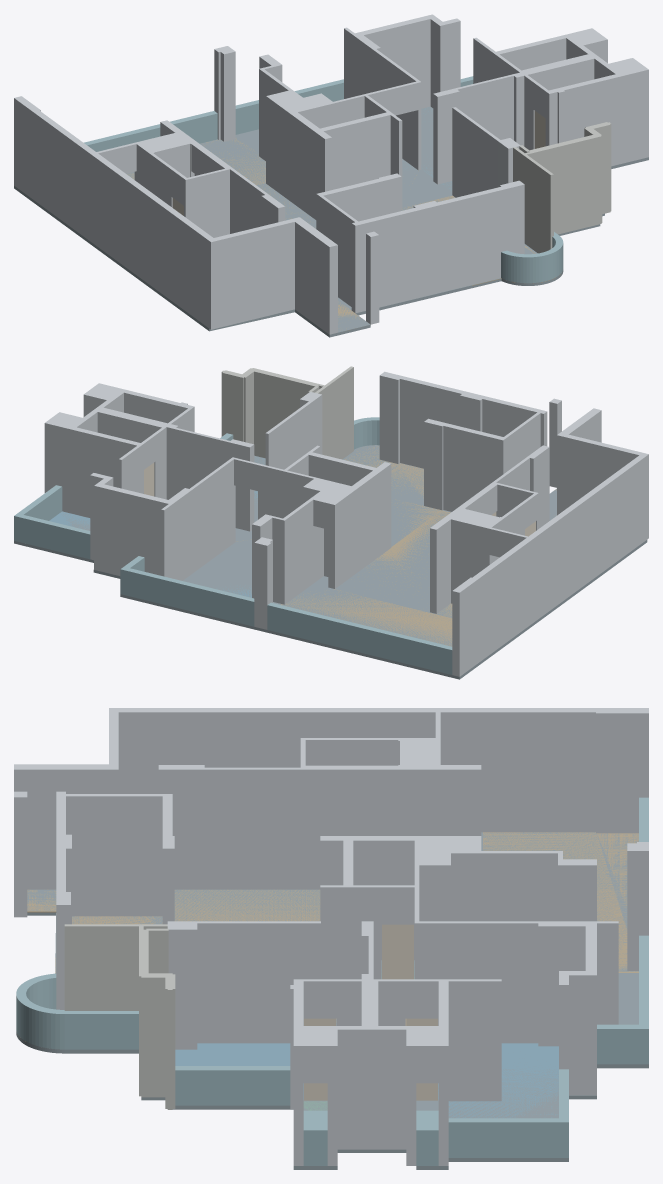
File: flat-cad.glb
3 renders of one model, top to bottom at view 1: azimuth 30°, elevation 25°; view 2: azimuth 150°, elevation 25°; view 3: azimuth 270°, elevation 25°, orthographic. The views are drawn at different scales.
Visible parts, largest first — view 1: cad-wall-11, cad-wall-13, cad-open-run-0, CAD traced floor outline, cad-wall-55, cad-wall-34, cad-wall-6, cad-wall-3, cad-wall-0, cad-wall-54, cad-wall-43, cad-wall-48 (+33 smaller); view 2: cad-wall-11, CAD traced floor outline, cad-open-run-0, cad-wall-13, cad-wall-48, cad-wall-6, cad-wall-24, cad-wall-30, cad-wall-29, cad-wall-4, ROOM_balcony, cad-wall-34 (+39 smaller); view 3: cad-wall-11, cad-wall-0, CAD traced floor outline, cad-wall-54, cad-open-run-0, cad-wall-13, cad-wall-49, cad-wall-4, cad-wall-48, cad-wall-30, cad-wall-23, cad-wall-35 (+40 smaller).
Part boxes in pixels (box(x1,y1,x2,y2)): cad-wall-11: box(33, 110, 337, 334); cad-wall-13: box(316, 178, 419, 313); cad-open-run-0: box(513, 122, 611, 253); CAD traced floor outline: box(14, 106, 648, 337); cad-wall-55: box(545, 67, 648, 166); cad-wall-34: box(437, 186, 504, 292); cad-wall-6: box(359, 14, 460, 108); cad-wall-3: box(322, 104, 402, 207); cad-wall-0: box(184, 142, 267, 237); cad-wall-54: box(452, 107, 499, 197); cad-wall-43: box(456, 74, 513, 140); cad-wall-48: box(473, 28, 595, 83); cad-wall-11: box(472, 408, 648, 662); CAD traced floor outline: box(14, 445, 647, 679); cad-open-run-0: box(221, 366, 353, 459); cad-wall-13: box(443, 396, 547, 511); cad-wall-48: box(44, 420, 143, 517); cad-wall-6: box(90, 473, 167, 575); cad-wall-24: box(267, 602, 452, 674); cad-wall-30: box(264, 482, 351, 604); cad-wall-29: box(120, 556, 254, 626); cad-wall-4: box(190, 457, 235, 573); ROOM_balcony: box(281, 590, 452, 646); cad-wall-34: box(400, 376, 465, 468); cad-wall-11: box(14, 708, 595, 889); cad-wall-0: box(204, 738, 398, 889); CAD traced floor outline: box(16, 832, 648, 1169); cad-wall-54: box(197, 921, 320, 1043); cad-open-run-0: box(64, 924, 175, 1109); cad-wall-13: box(56, 791, 172, 916); cad-wall-49: box(327, 989, 416, 1165); cad-wall-4: box(414, 921, 538, 1043); cad-wall-48: box(438, 979, 501, 1165); cad-wall-30: box(414, 840, 562, 921); cad-wall-23: box(596, 708, 648, 833); cad-wall-35: box(16, 973, 138, 1049).
Size of the model in its own units: 18.4 by 3.15 by 14.62.
